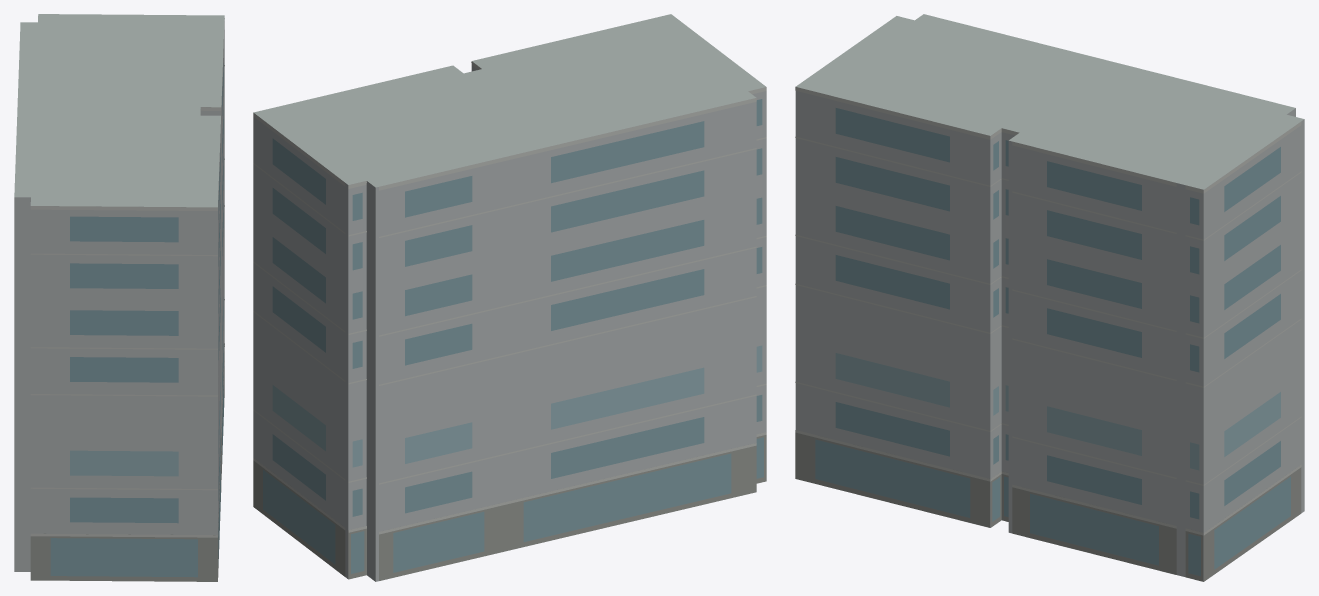
The model's file is survey-upis-32747758.glb.
3 renders of one model, left to right at view 1: azimuth 30°, elevation 25°; view 2: azimuth 150°, elevation 25°; view 3: azimuth 270°, elevation 25°, orthographic. The views are drawn at different scales.
Parts seen in each view (by area): view 1: survey-upis-32747758.tmp; view 2: survey-upis-32747758.tmp; view 3: survey-upis-32747758.tmp.
Part boxes in pixels (x1,y1,x2,y2): survey-upis-32747758.tmp: (14, 14, 224, 581); survey-upis-32747758.tmp: (253, 14, 766, 581); survey-upis-32747758.tmp: (795, 14, 1304, 581).
Bounding box in the file's own units: 23.48 × 24.4 × 28.73.
